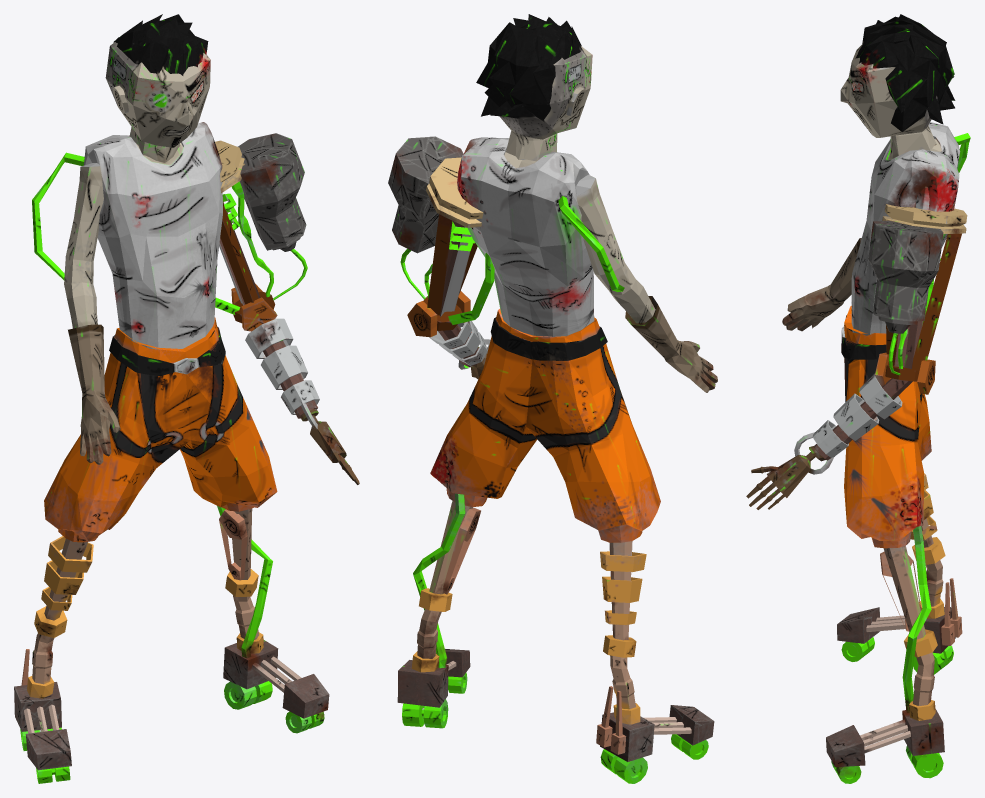
File: CyborgFINALAnimation_000002.obj
3 renders of one model, left to right at view 1: azimuth 30°, elevation 25°; view 2: azimuth 150°, elevation 25°; view 3: azimuth 270°, elevation 25°, orthographic. The views are drawn at different scales.
Parts seen in each view (by area): view 1: CyborgMesh_Cube.002; view 2: CyborgMesh_Cube.002; view 3: CyborgMesh_Cube.002.
Boxes of the visible parts, box(x1,y1,x2,y2) form: CyborgMesh_Cube.002: box(14, 14, 359, 783); CyborgMesh_Cube.002: box(388, 14, 717, 783); CyborgMesh_Cube.002: box(746, 14, 970, 783).
Bounding box in the file's own units: 4.08 × 9.63 × 2.79.
